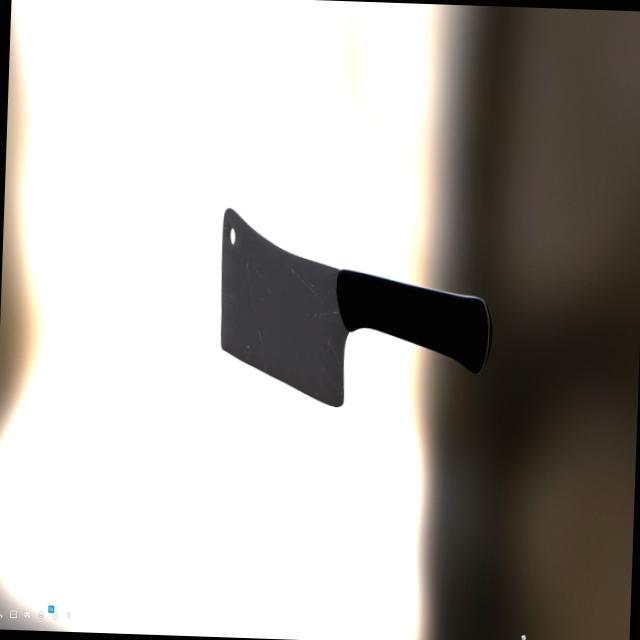cleaver: (211, 208, 498, 412)
